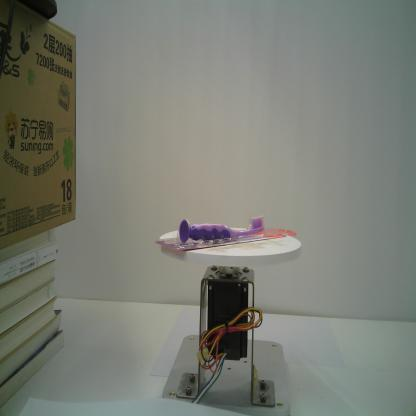Personal Hygiene: (154, 212, 298, 252)
